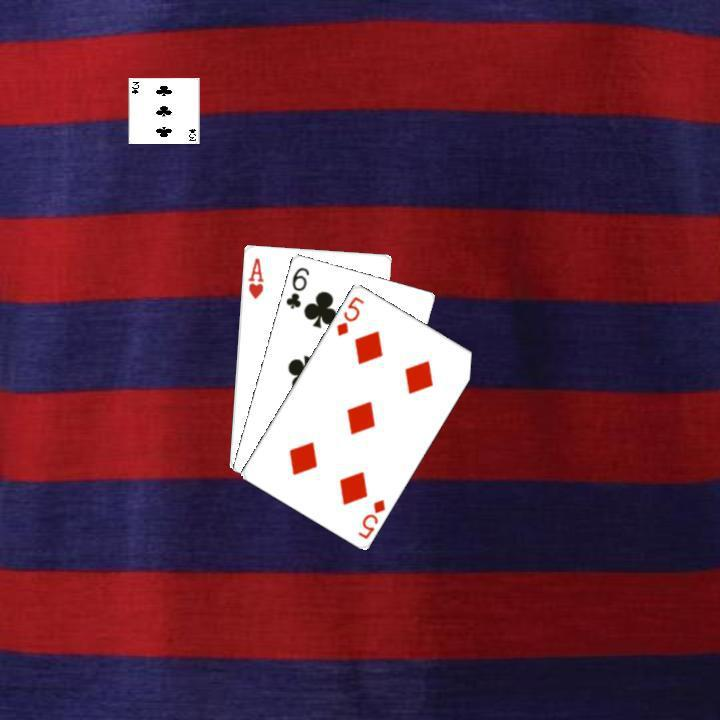5: (332, 291, 366, 338), (353, 494, 387, 541)
6: (281, 262, 311, 310)
A: (243, 253, 266, 300)
